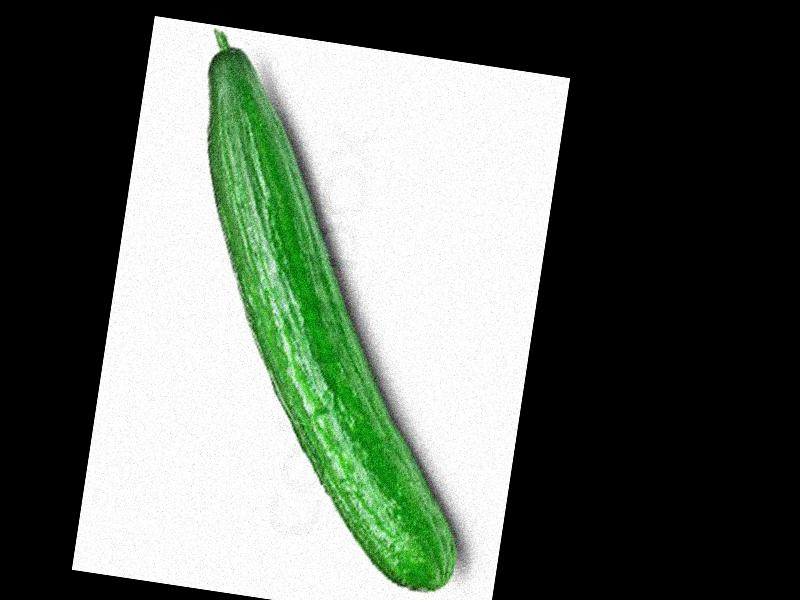Cucumber: (137, 24, 532, 594)
